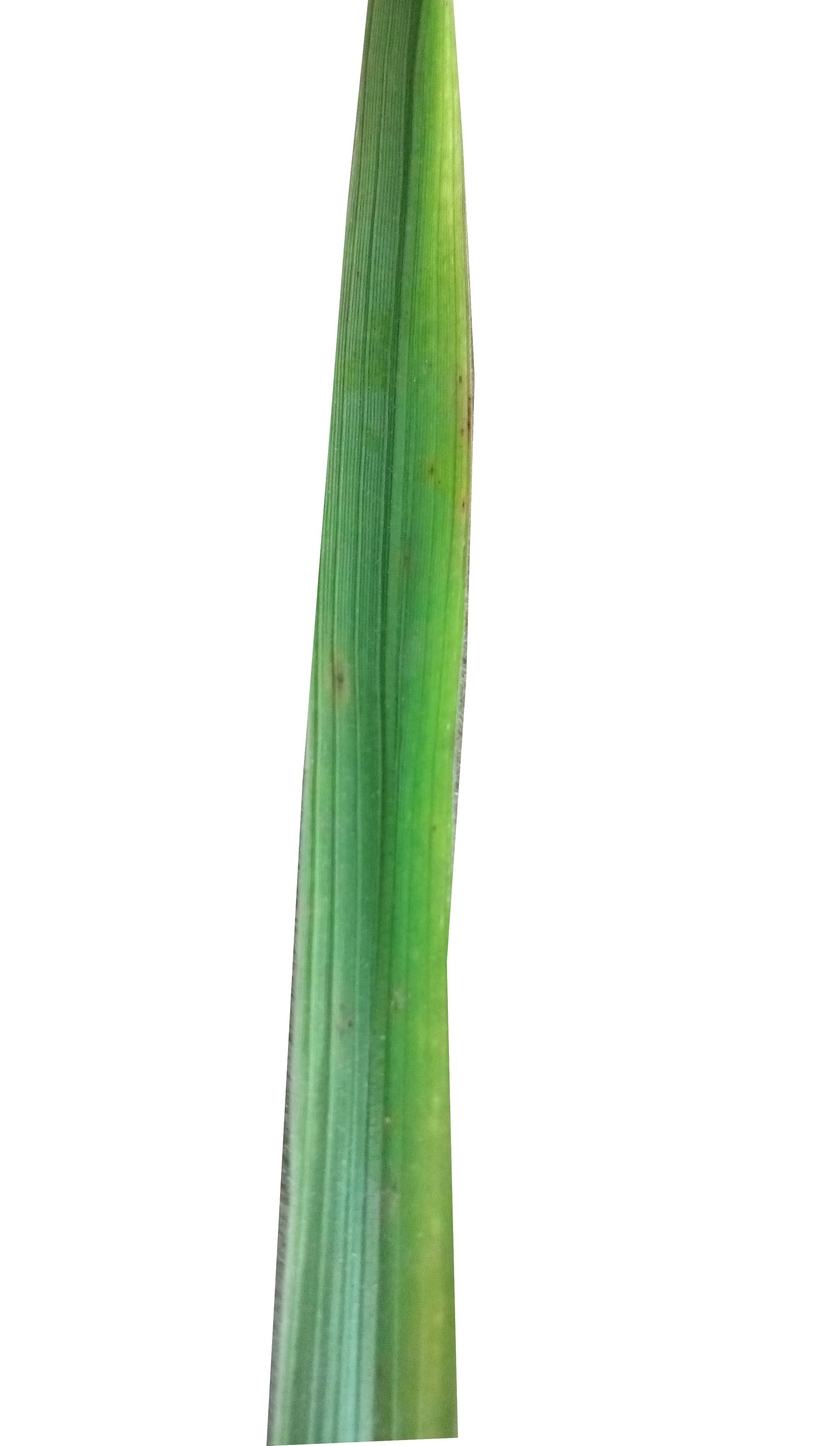Tungro: (372, 31, 469, 1446)
